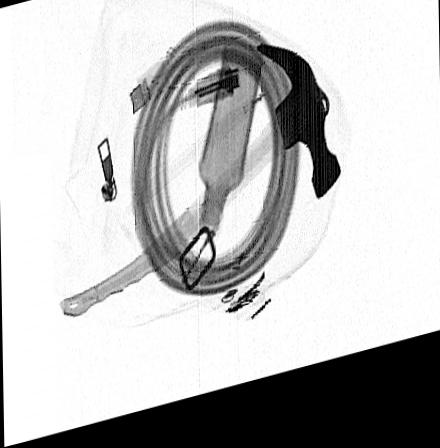Hammer: (58, 54, 341, 323)
